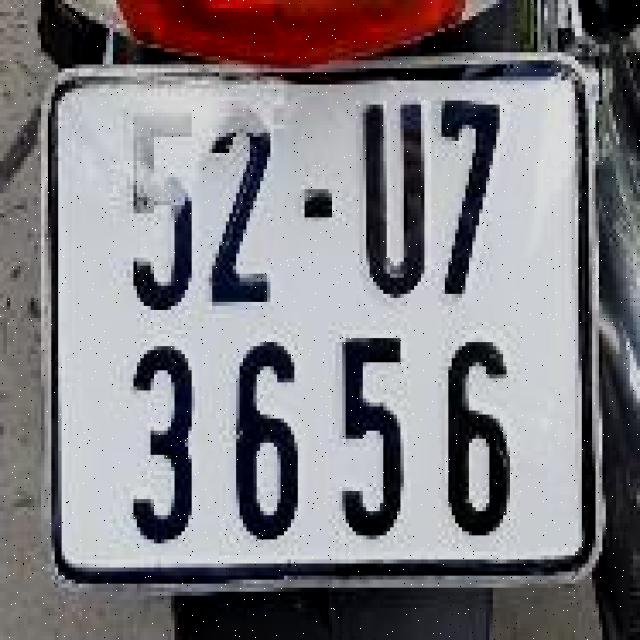2: (204, 101, 286, 322)
3: (123, 338, 199, 556)
5: (330, 324, 409, 541), (120, 107, 198, 316)
6: (431, 330, 534, 556), (224, 342, 313, 556)
7: (435, 78, 513, 304)
U: (349, 96, 428, 298)
